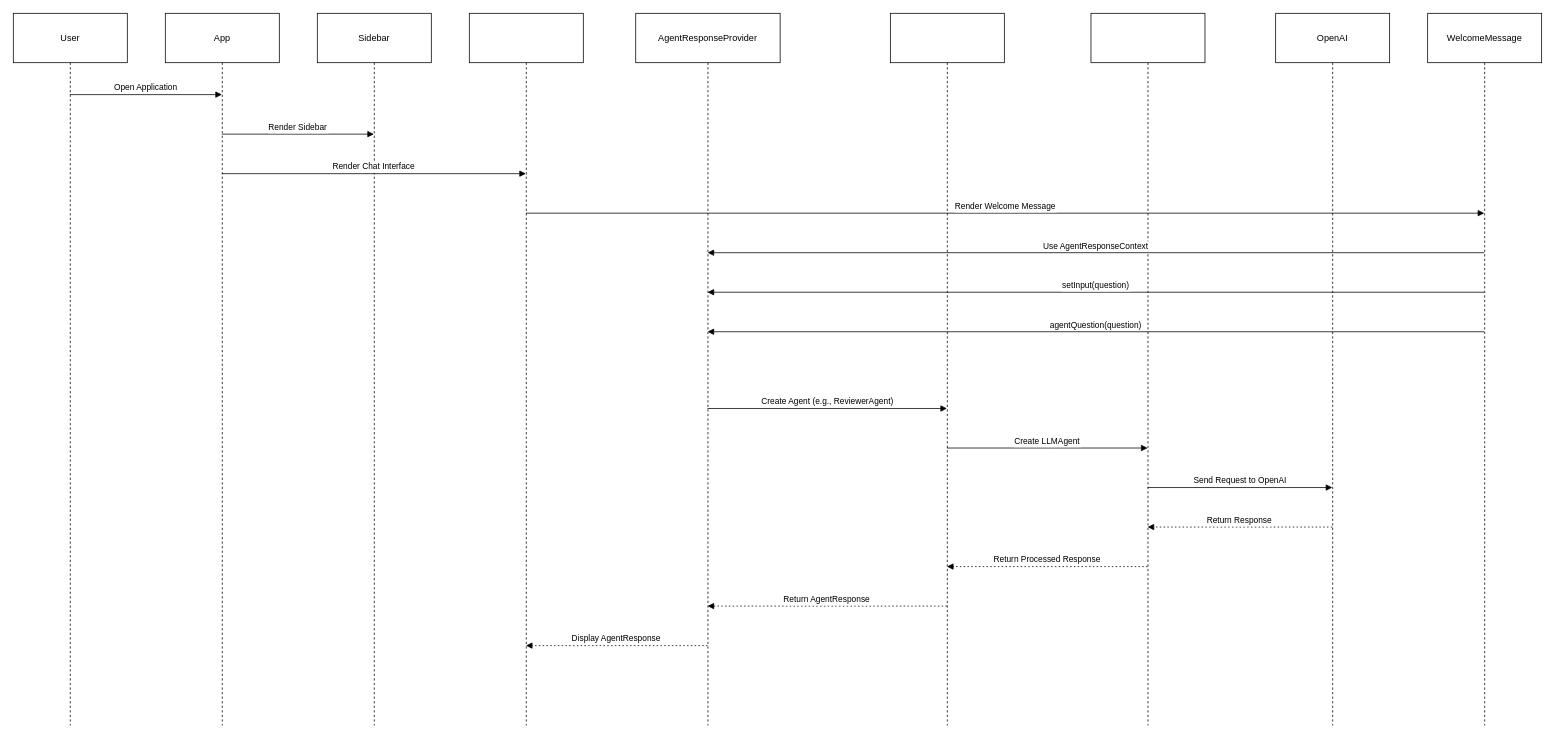
The diagram is 1555 pixels wide and 739 high, and some of its shapes have lost their labels. Here are the shapes that lost their labels. From the top down, the box of each, then its label:
(469, 13, 583, 725): ChatInterface
(890, 13, 1004, 725): Agent
(1090, 13, 1205, 725): LLMAgent
